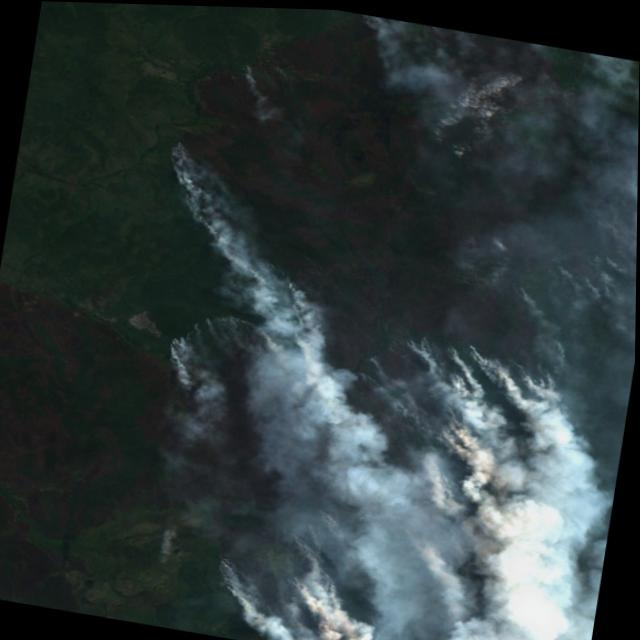fire: (93, 2, 640, 640)
